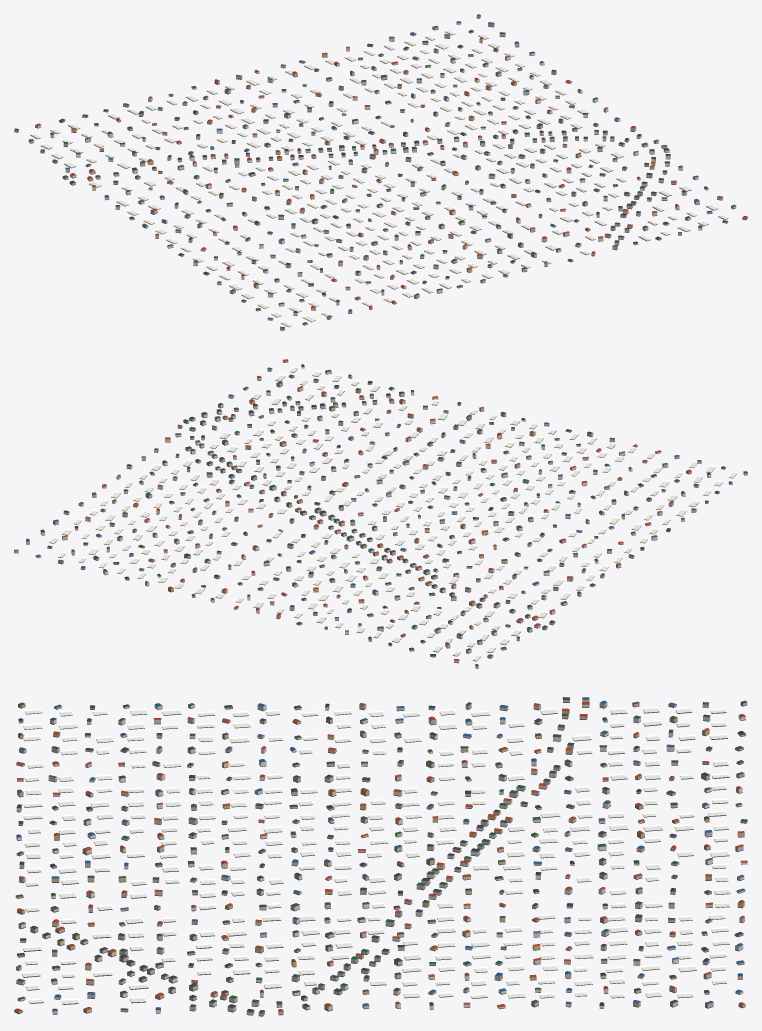
Rendered from buildings_T_E08_N05.glb.
3 renders of one model, top to bottom at view 1: azimuth 30°, elevation 25°; view 2: azimuth 150°, elevation 25°; view 3: azimuth 270°, elevation 25°, orthographic. The views are drawn at different scales.
Visible parts, largest first — view 1: T_E08_N05_roofs_agri_greenhouse_arch, T_E08_N05_slope_seating_foundations, T_E08_N05_walls_wall_modern_warm_white, T_E08_N05_walls_wall_pastel_sand_gray, T_E08_N05_walls_wall_dalat_cream_stucco, T_E08_N05_roofs_roof_slate_French_villa_hip, T_E08_N05_walls_wall_french_ochre_villa, T_E08_N05_roofs_roof_terracotta_gable, T_E08_N05_roofs_roof_pine_green_hip, T_E08_N05_roofs_roof_highland_blue_gable; view 2: T_E08_N05_roofs_agri_greenhouse_arch, T_E08_N05_slope_seating_foundations, T_E08_N05_walls_wall_pastel_sand_gray, T_E08_N05_walls_wall_modern_warm_white, T_E08_N05_walls_wall_dalat_cream_stucco, T_E08_N05_roofs_roof_slate_French_villa_hip, T_E08_N05_walls_wall_french_ochre_villa, T_E08_N05_roofs_roof_terracotta_gable, T_E08_N05_roofs_roof_pine_green_hip, T_E08_N05_roofs_roof_highland_blue_gable; view 3: T_E08_N05_roofs_agri_greenhouse_arch, T_E08_N05_slope_seating_foundations, T_E08_N05_walls_wall_pastel_sand_gray, T_E08_N05_walls_wall_modern_warm_white, T_E08_N05_walls_wall_dalat_cream_stucco, T_E08_N05_roofs_roof_slate_French_villa_hip, T_E08_N05_walls_wall_french_ochre_villa, T_E08_N05_roofs_roof_terracotta_gable, T_E08_N05_roofs_roof_pine_green_hip, T_E08_N05_roofs_roof_highland_blue_gable.
Part boxes in pixels (x1,y1,x2,y2): T_E08_N05_roofs_agri_greenhouse_arch: (30, 29, 728, 326); T_E08_N05_slope_seating_foundations: (14, 17, 747, 330); T_E08_N05_walls_wall_modern_warm_white: (35, 23, 728, 315); T_E08_N05_walls_wall_pastel_sand_gray: (14, 23, 699, 325); T_E08_N05_walls_wall_dalat_cream_stucco: (50, 33, 736, 320); T_E08_N05_roofs_roof_slate_French_villa_hip: (14, 30, 727, 324); T_E08_N05_walls_wall_french_ochre_villa: (52, 15, 747, 330); T_E08_N05_roofs_roof_terracotta_gable: (36, 14, 747, 308); T_E08_N05_roofs_roof_pine_green_hip: (29, 53, 708, 328); T_E08_N05_roofs_roof_highland_blue_gable: (40, 21, 735, 319); T_E08_N05_roofs_agri_greenhouse_arch: (49, 366, 737, 660); T_E08_N05_slope_seating_foundations: (14, 362, 747, 668); T_E08_N05_walls_wall_pastel_sand_gray: (26, 383, 725, 668); T_E08_N05_walls_wall_modern_warm_white: (35, 367, 711, 662); T_E08_N05_walls_wall_dalat_cream_stucco: (40, 368, 732, 653); T_E08_N05_roofs_roof_slate_French_villa_hip: (40, 364, 725, 666); T_E08_N05_walls_wall_french_ochre_villa: (14, 360, 747, 647); T_E08_N05_roofs_roof_terracotta_gable: (14, 359, 691, 660); T_E08_N05_roofs_roof_pine_green_hip: (92, 369, 747, 656); T_E08_N05_roofs_roof_highland_blue_gable: (26, 367, 732, 649); T_E08_N05_roofs_agri_greenhouse_arch: (22, 706, 730, 1004); T_E08_N05_slope_seating_foundations: (14, 702, 747, 1016); T_E08_N05_walls_wall_pastel_sand_gray: (16, 699, 747, 1014); T_E08_N05_walls_wall_modern_warm_white: (16, 704, 747, 1012); T_E08_N05_walls_wall_dalat_cream_stucco: (16, 704, 744, 1014); T_E08_N05_roofs_roof_slate_French_villa_hip: (16, 697, 746, 1012); T_E08_N05_walls_wall_french_ochre_villa: (14, 700, 747, 1015); T_E08_N05_roofs_roof_terracotta_gable: (14, 702, 747, 1012); T_E08_N05_roofs_roof_pine_green_hip: (16, 697, 747, 1013); T_E08_N05_roofs_roof_highland_blue_gable: (16, 700, 744, 1011).
Size of the model in its own units: 1804 by 32.73 by 1755.
